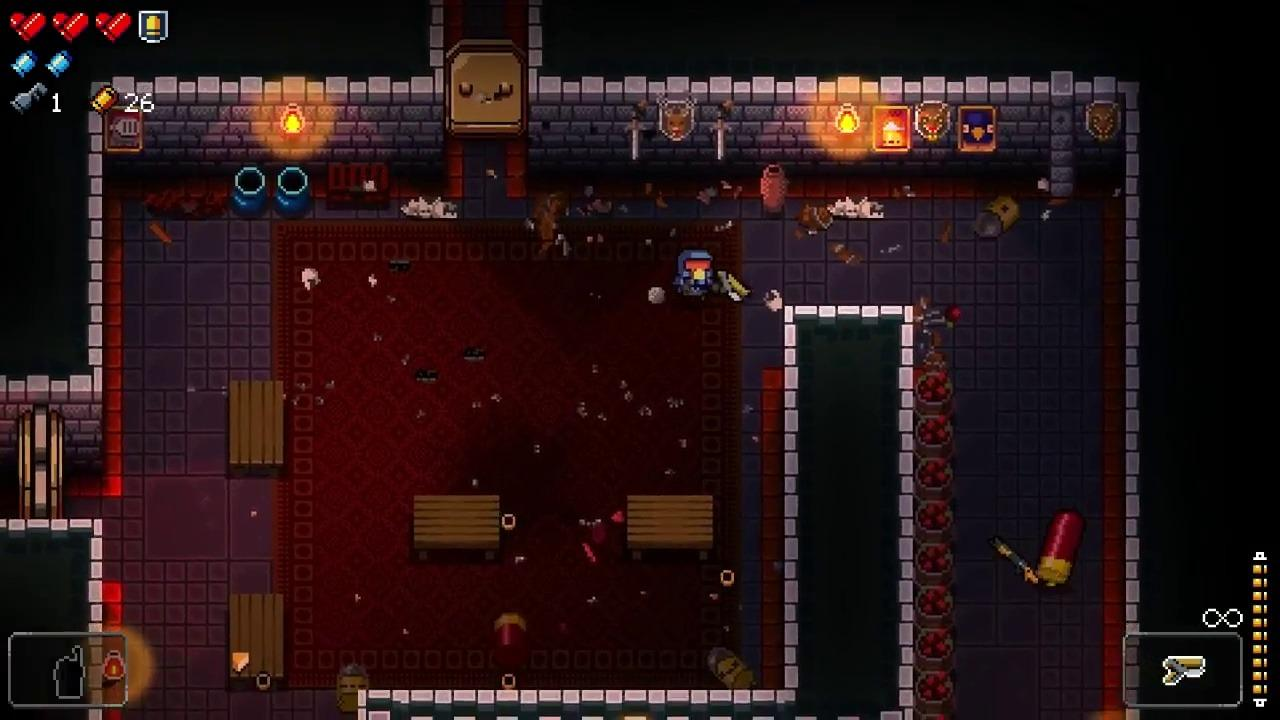dead_bullet_kin: (971, 194, 1022, 239), (707, 645, 757, 690), (336, 662, 373, 713)
dead_red_shotgun_kin: (492, 613, 529, 667)
locked_door: (444, 39, 529, 142), (17, 402, 63, 521)
player: (676, 246, 714, 301)
red_shotgun_kin: (1036, 509, 1086, 585)
table: (627, 496, 713, 562), (413, 495, 500, 559), (229, 593, 285, 691), (228, 379, 283, 478)
